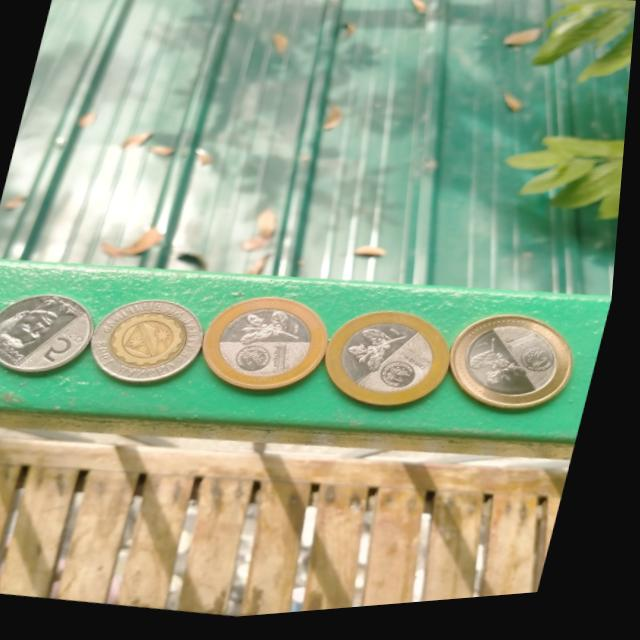10_Old_Back: (86, 291, 214, 397)
20_New_Back: (234, 300, 329, 364), (466, 332, 547, 403), (344, 320, 413, 387)
5_New_Front: (32, 321, 94, 372)
